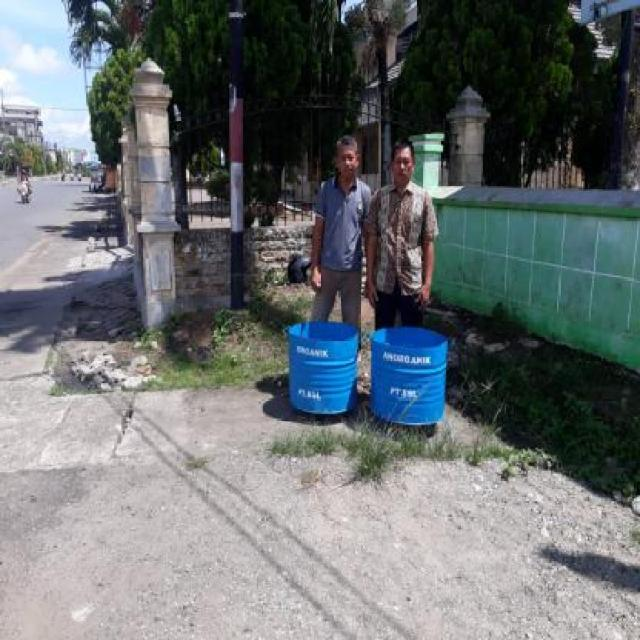garbage container: (364, 316, 459, 450), (282, 312, 364, 428)
